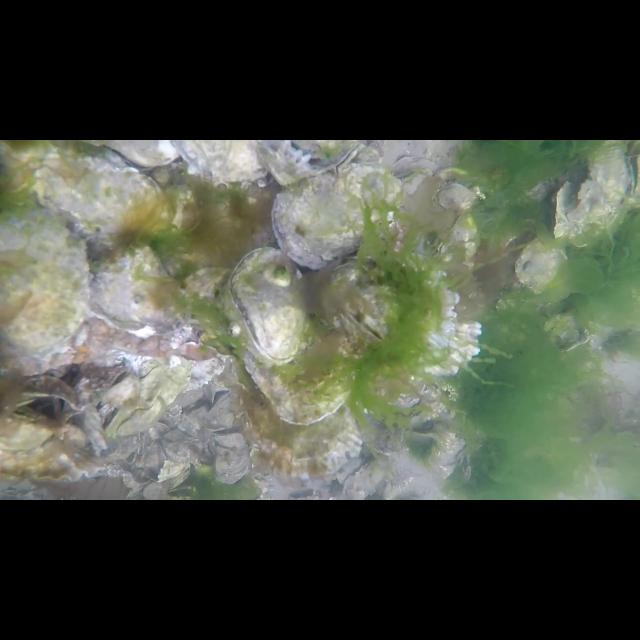Oyster-Closed: (326, 264, 484, 378), (0, 217, 88, 376), (240, 316, 362, 424), (243, 369, 363, 478), (33, 152, 167, 234), (91, 244, 191, 334), (553, 140, 631, 240), (104, 364, 186, 436), (0, 436, 110, 482), (0, 408, 70, 450), (435, 211, 481, 269), (514, 237, 564, 289), (354, 406, 404, 452), (213, 433, 250, 485), (433, 167, 475, 211), (343, 460, 389, 500), (203, 392, 239, 432)
Oyster-Open: (270, 167, 398, 269), (231, 244, 313, 364), (162, 140, 268, 184), (0, 374, 84, 422), (263, 140, 359, 178), (256, 140, 316, 184), (393, 166, 432, 198), (412, 422, 436, 436)
